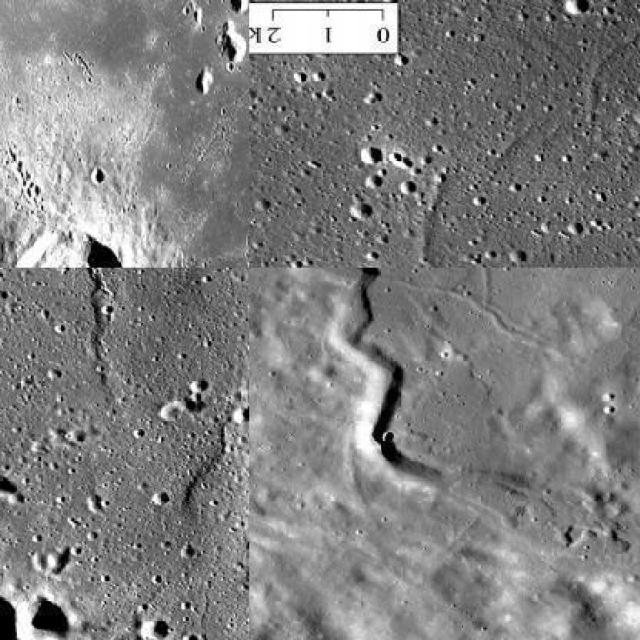rille: (332, 19, 638, 266), (250, 268, 452, 494), (0, 267, 105, 638), (0, 0, 247, 132), (74, 268, 166, 335)
